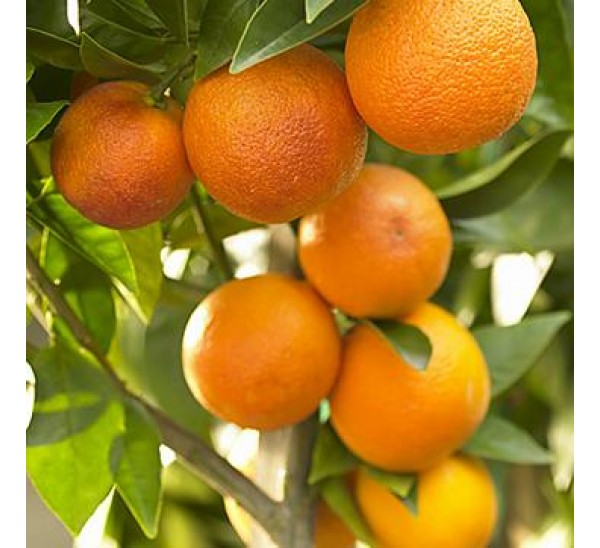orange: (332, 5, 569, 175), (181, 50, 381, 241), (175, 270, 349, 441), (286, 172, 476, 315), (333, 306, 491, 474), (49, 76, 207, 243)
